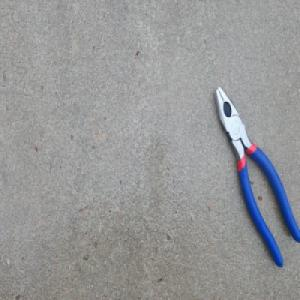Pliers: (212, 87, 299, 269)
